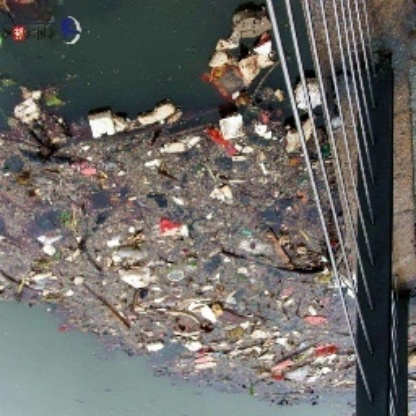plastic-bag: (207, 43, 262, 98)
